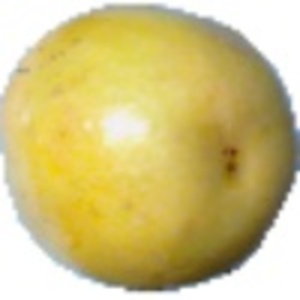maracujá: (1, 2, 300, 300)
